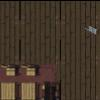Hide: (41, 80, 60, 100)
Obstacle: (20, 58, 41, 80), (0, 58, 21, 79), (0, 80, 21, 100), (19, 80, 40, 100)
Win: (83, 19, 100, 39)
